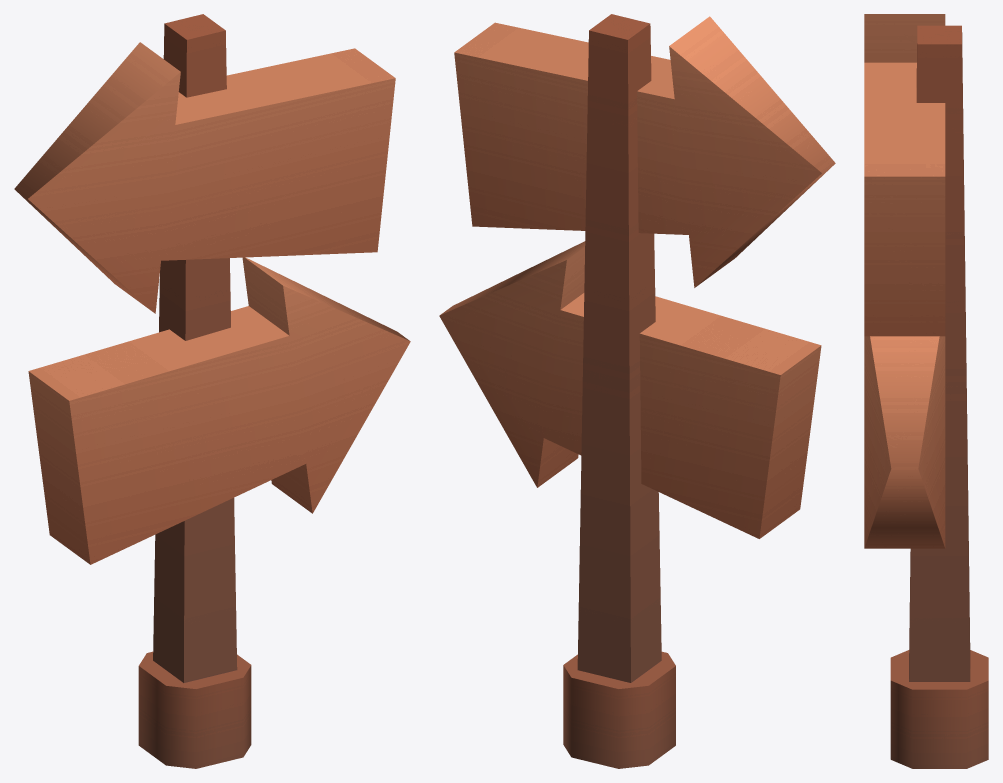
File: arrows.glb
3 renders of one model, left to right at view 1: azimuth 30°, elevation 25°; view 2: azimuth 150°, elevation 25°; view 3: azimuth 270°, elevation 25°, orthographic.
Parts seen in each view (by area): view 1: arrows; view 2: arrows; view 3: arrows.
Boxes of the visible parts, left/top/right/bottom form: arrows: left=14, top=14, right=410, bottom=768; arrows: left=439, top=14, right=835, bottom=768; arrows: left=864, top=14, right=988, bottom=768.
Bounding box in the file's own units: 0.5023 × 0.9 × 0.1423.
1 material, 1 textured.
